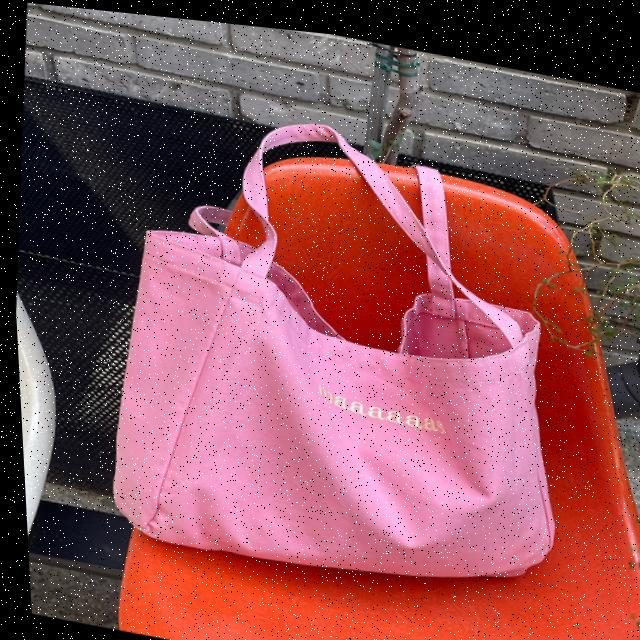ecobag: (71, 86, 622, 627)
